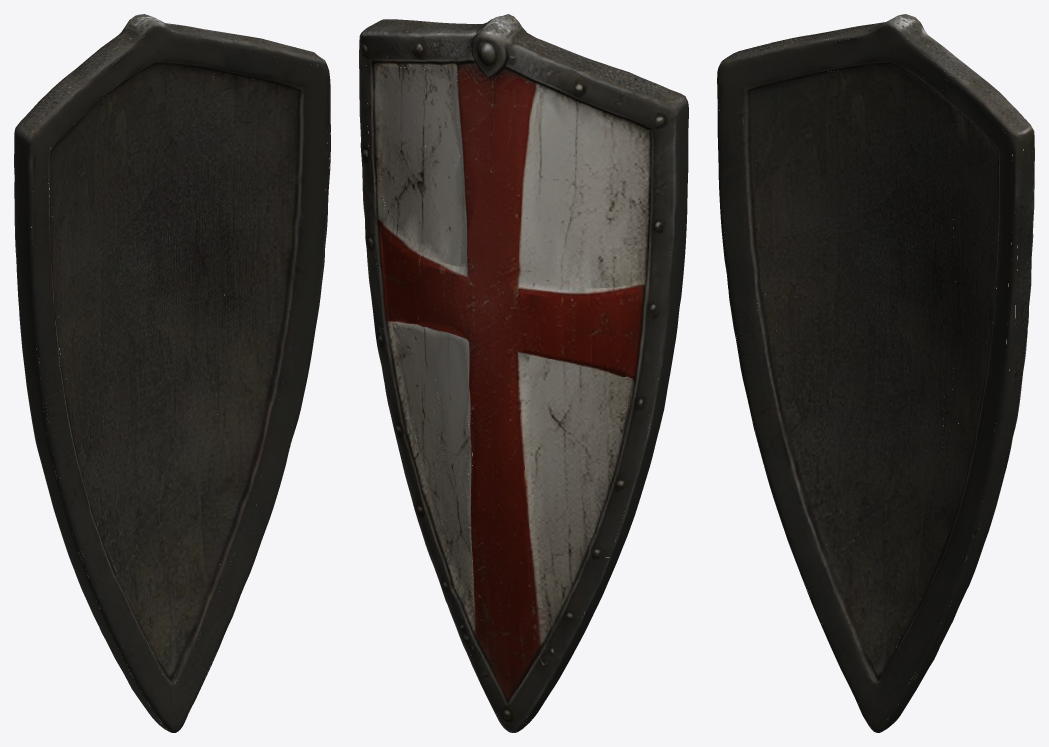
File: kite_cross.glb
3 views of the same model, side by side, from view 1: azimuth 30°, elevation 25°; view 2: azimuth 150°, elevation 25°; view 3: azimuth 330°, elevation 25° (orthographic). The views are drawn at different scales.
Visible parts, largest first — view 1: kite_cross; view 2: kite_cross; view 3: kite_cross.
Part boxes in pixels (box(x1,y1,x2,y2)): kite_cross: box(14, 14, 330, 732); kite_cross: box(359, 14, 688, 732); kite_cross: box(717, 14, 1034, 732).
Bounding box in the file's own units: 0.3883 × 0.8496 × 0.1022.
Materials: 1 (1 with a texture image).
